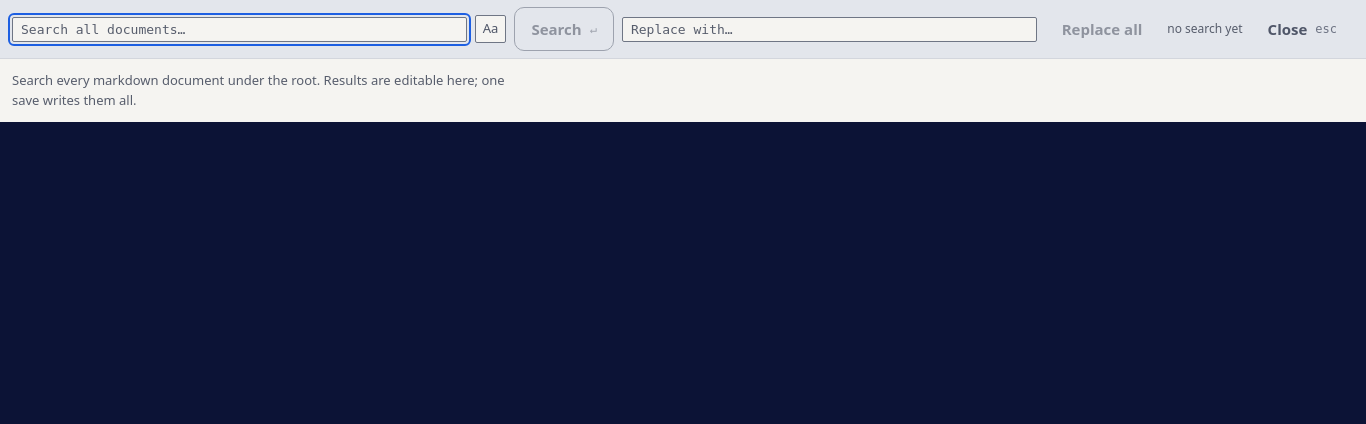
Test: MultiBuffer › replaces every match across the results
Type "needle" into the field labelled "Search all documents" at (239, 29), box [12,16,467,42]
Then press Enter
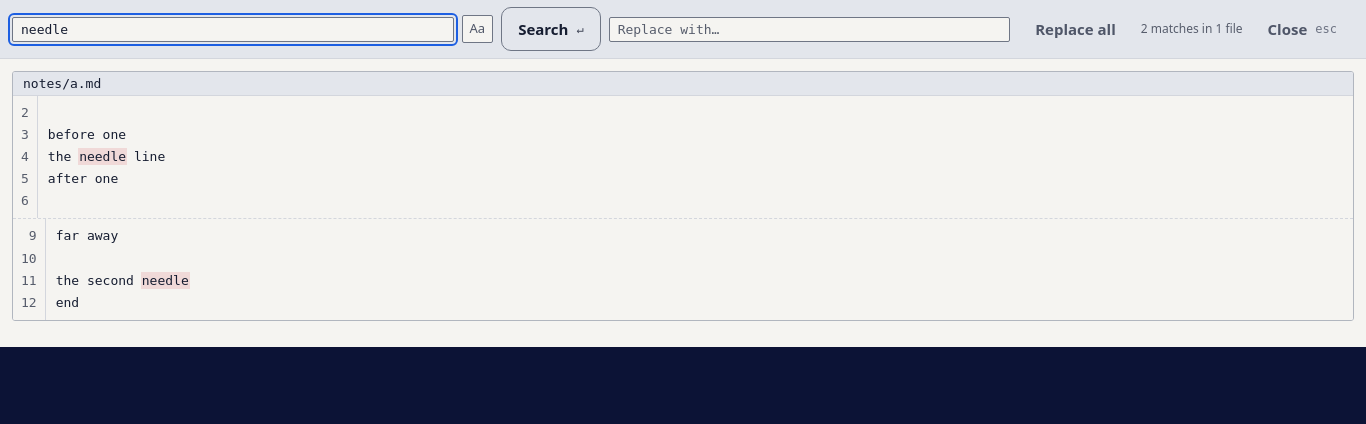
Check: the button "notes/a.md" is shown, box [23,76,101,91]
Type "pin" into the field named "Replacement text" at (809, 29), box [609,16,1010,42]
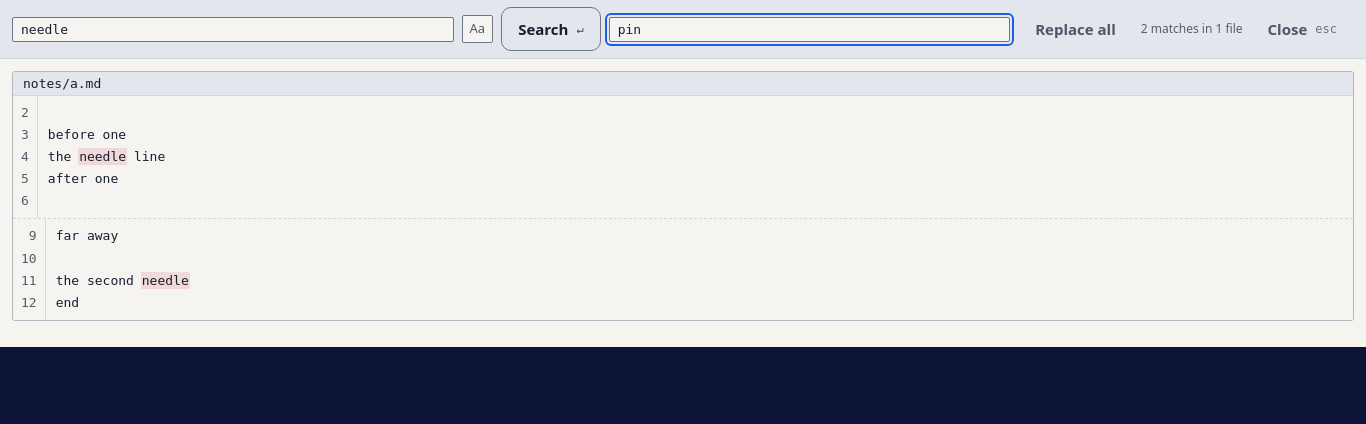
Click the button "Replace all" at (1076, 29), box [1018,7,1133,51]
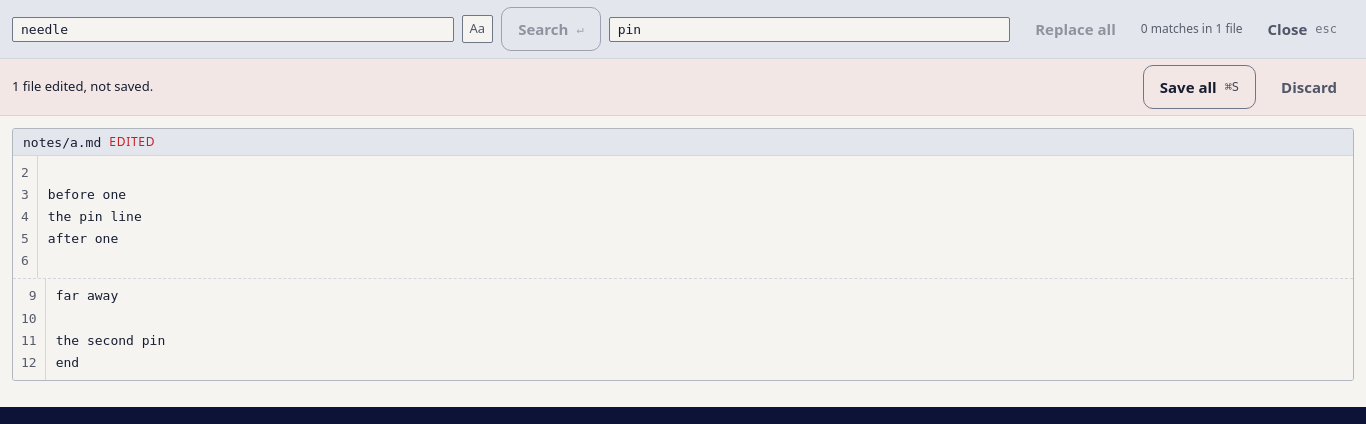
Check: the text "1 file edited, not saved." is shown, box [12,77,153,95]
